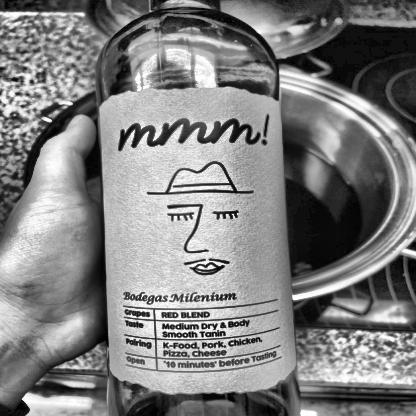umm: (100, 90, 299, 396)
